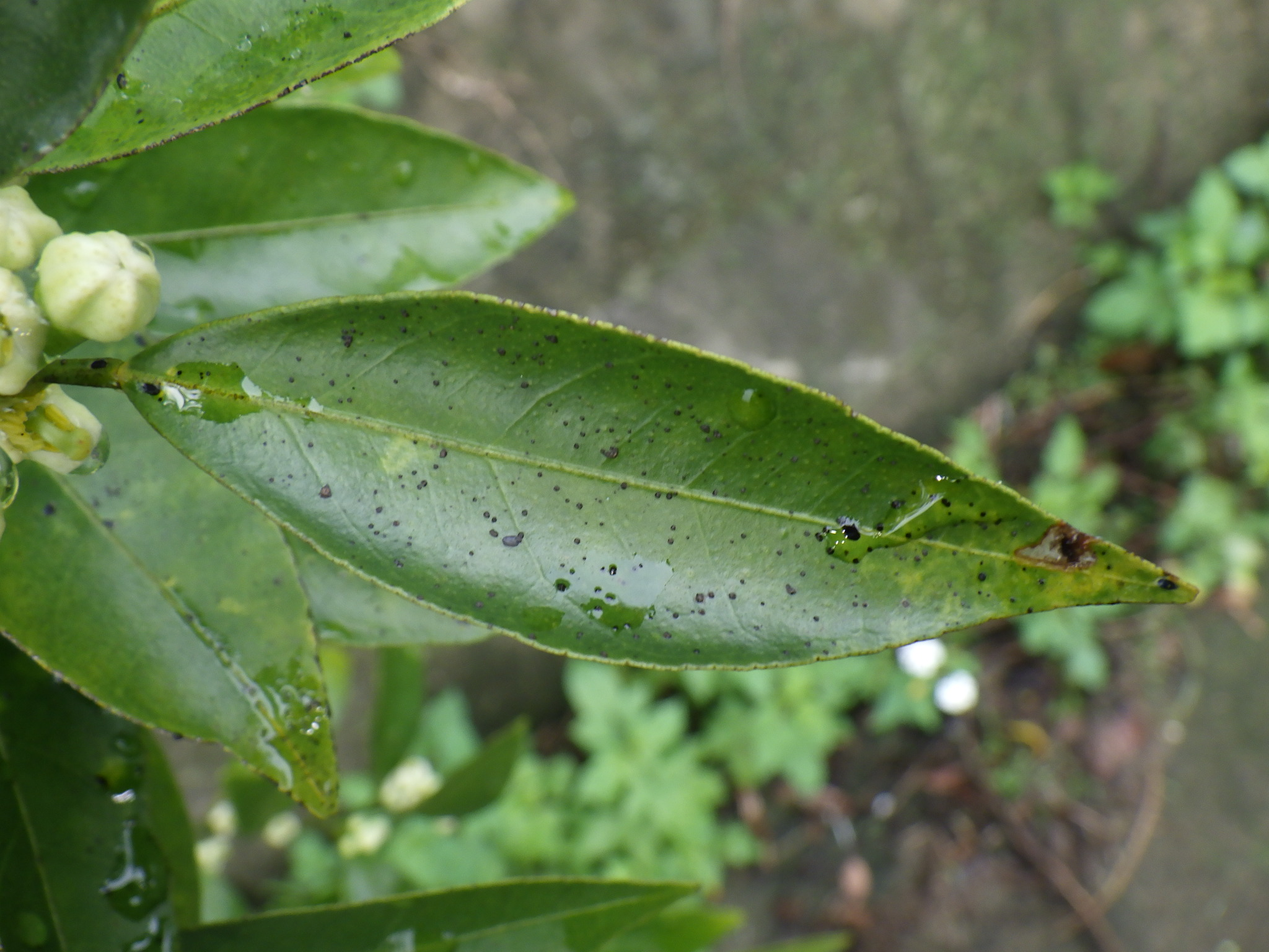Oily_Spot: (94, 293, 1192, 668)
